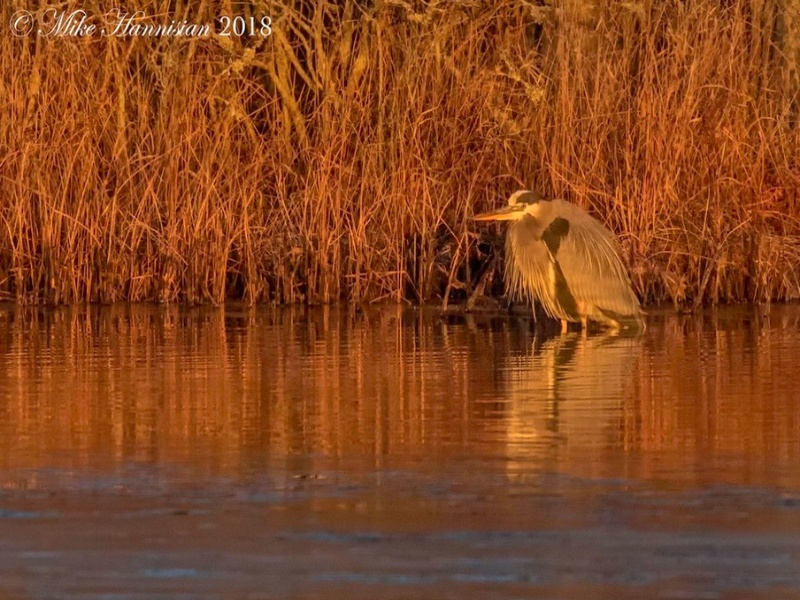heron: (470, 189, 646, 328)
